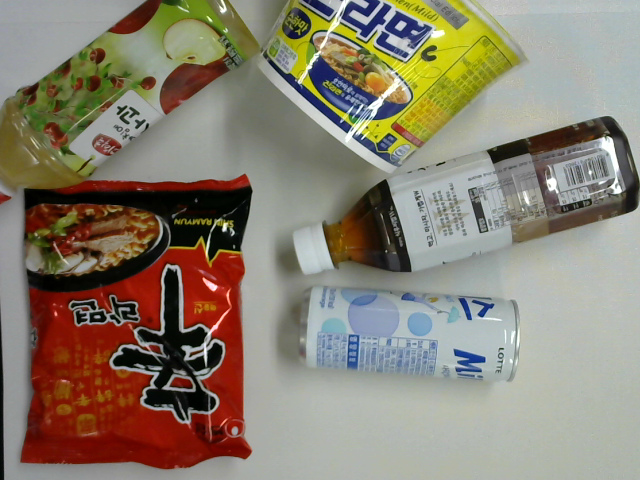Jinlamyeon_Mild_Taste_Large_Cup: (251, 1, 532, 181)
Milkies_250ml: (293, 282, 521, 385)
Morning_Apple_500ml: (1, 1, 264, 212)
Post-meal_recipe_W_tea_500ml: (287, 113, 640, 281)
Sinramen: (18, 173, 260, 473)
